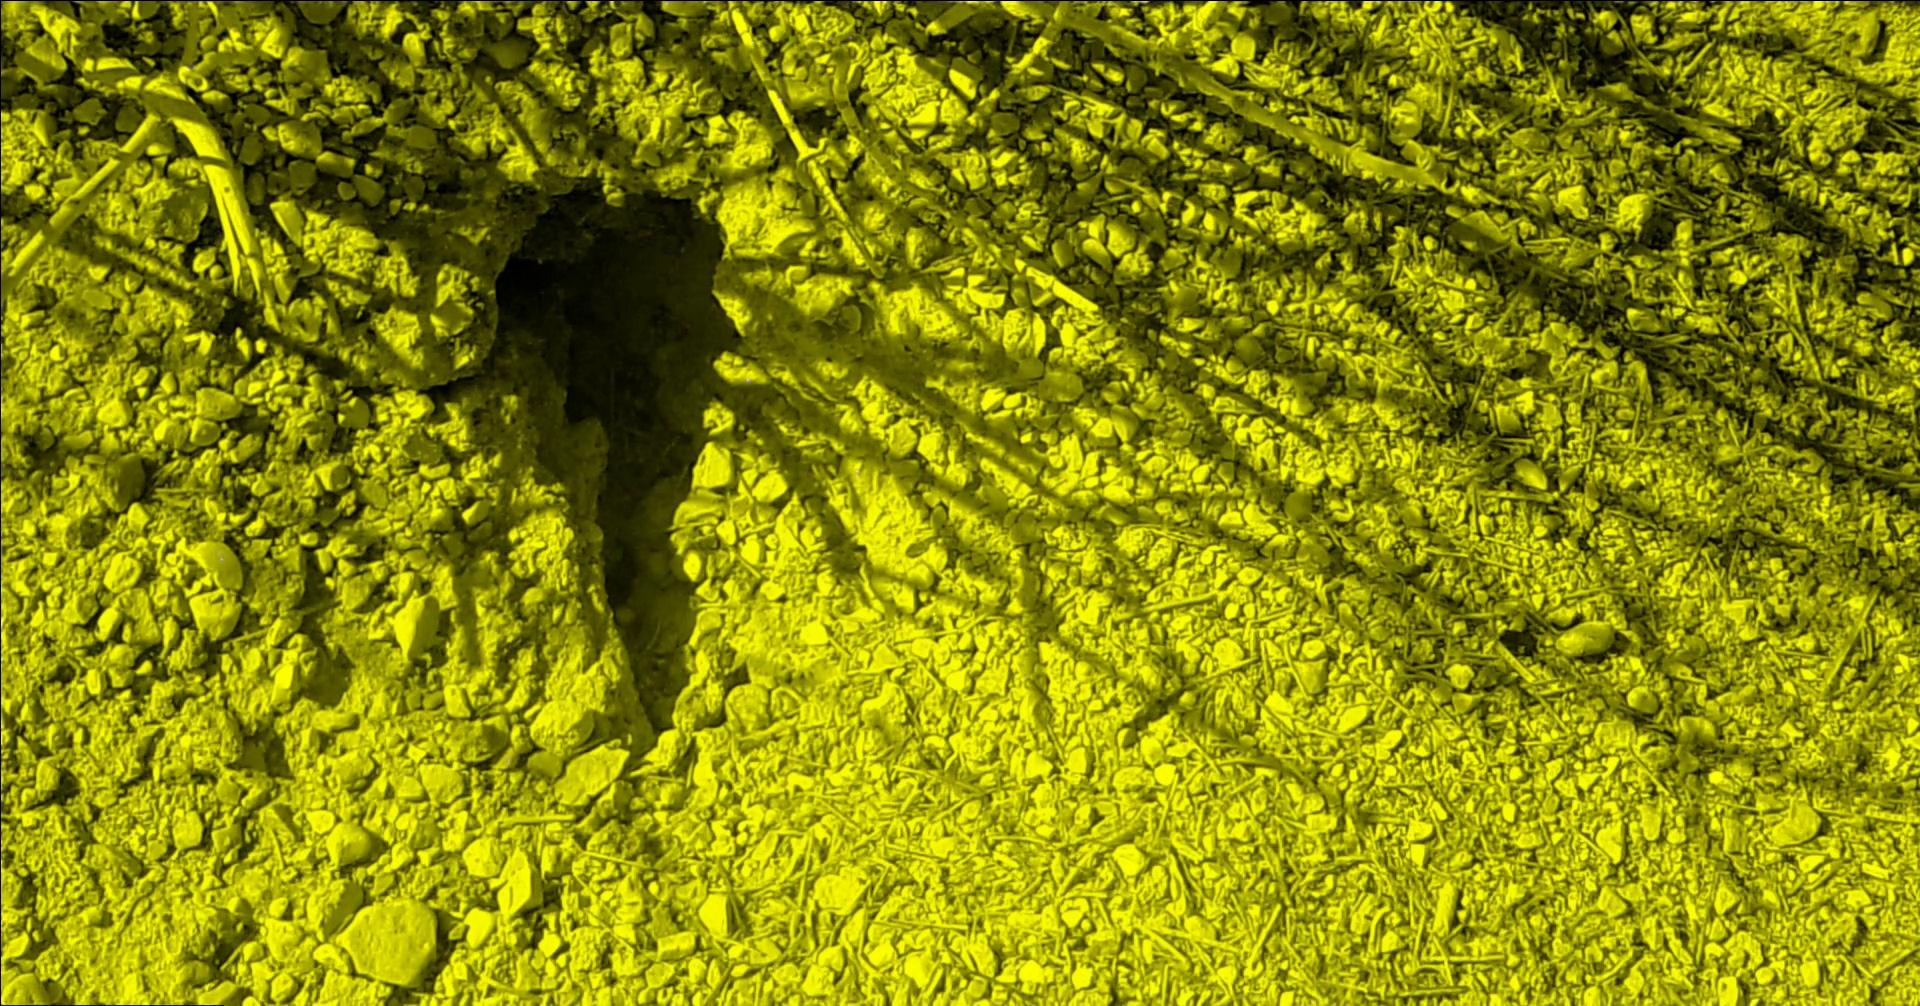ant: (290, 0, 352, 3)
